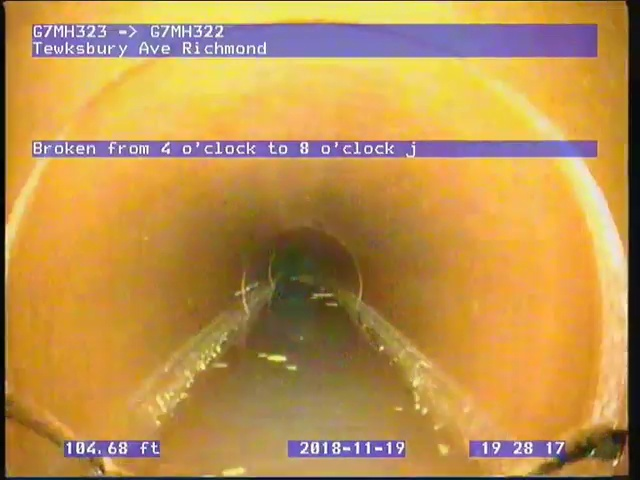crack: (5, 389, 127, 476), (505, 423, 627, 477)
